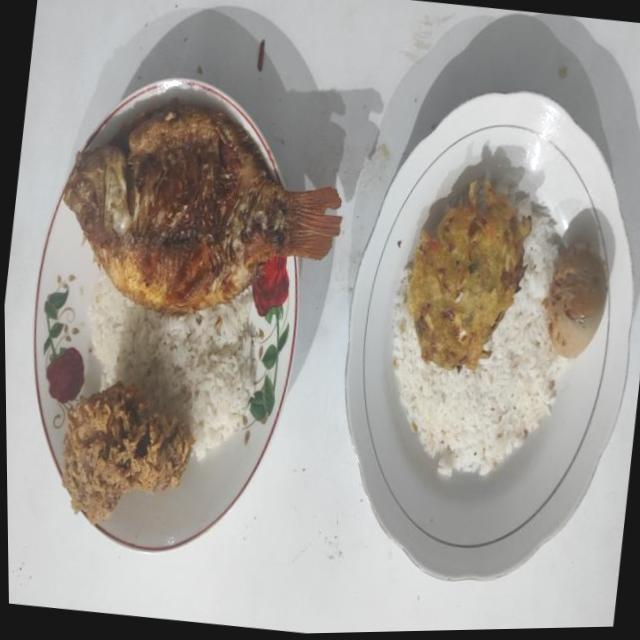ikan_mujair: (64, 106, 340, 314)
nasi_putih: (392, 215, 564, 476), (88, 270, 256, 460)
